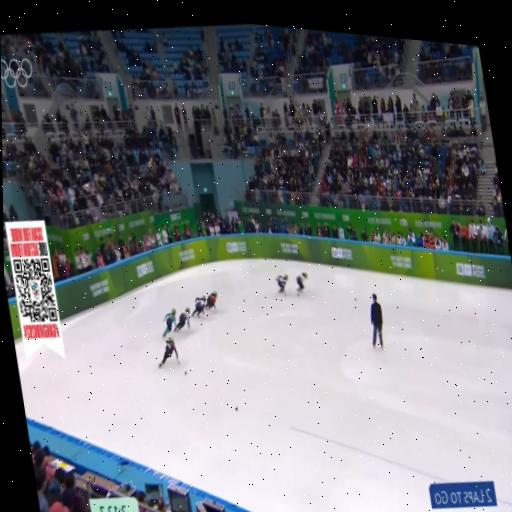Skater: (158, 337, 178, 368), (293, 270, 310, 294), (162, 308, 175, 337), (175, 308, 189, 331), (191, 296, 205, 316), (276, 275, 287, 296), (206, 292, 216, 310)
